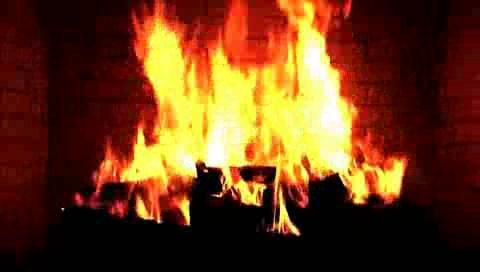fire: (132, 21, 376, 209)
